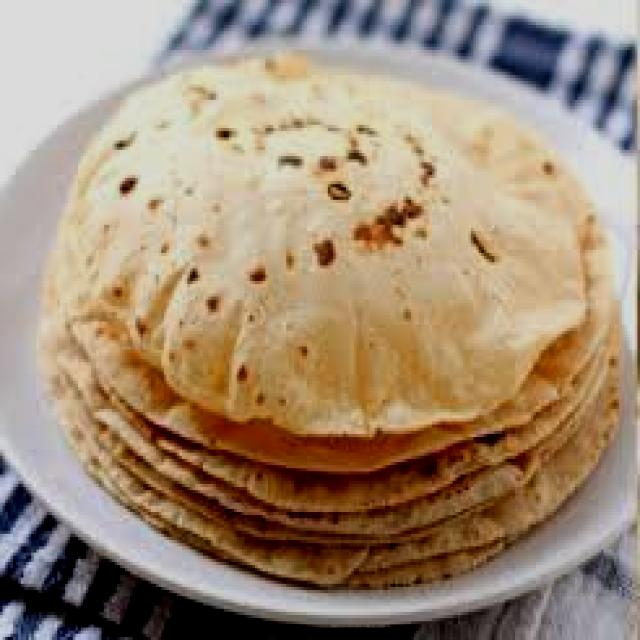chapathi: (40, 38, 628, 575)
